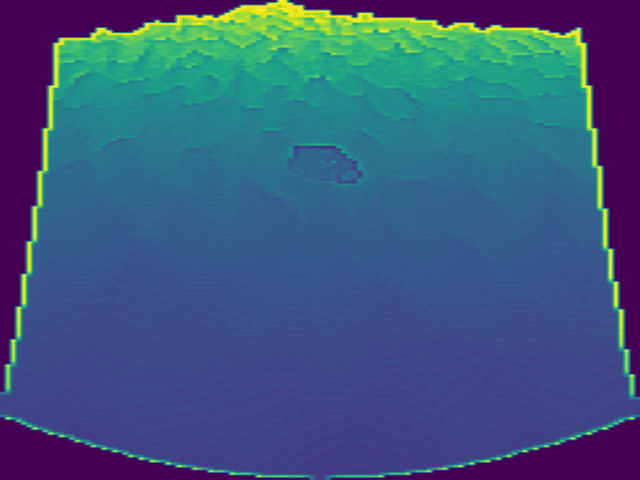car_0198: (289, 141, 363, 186)
